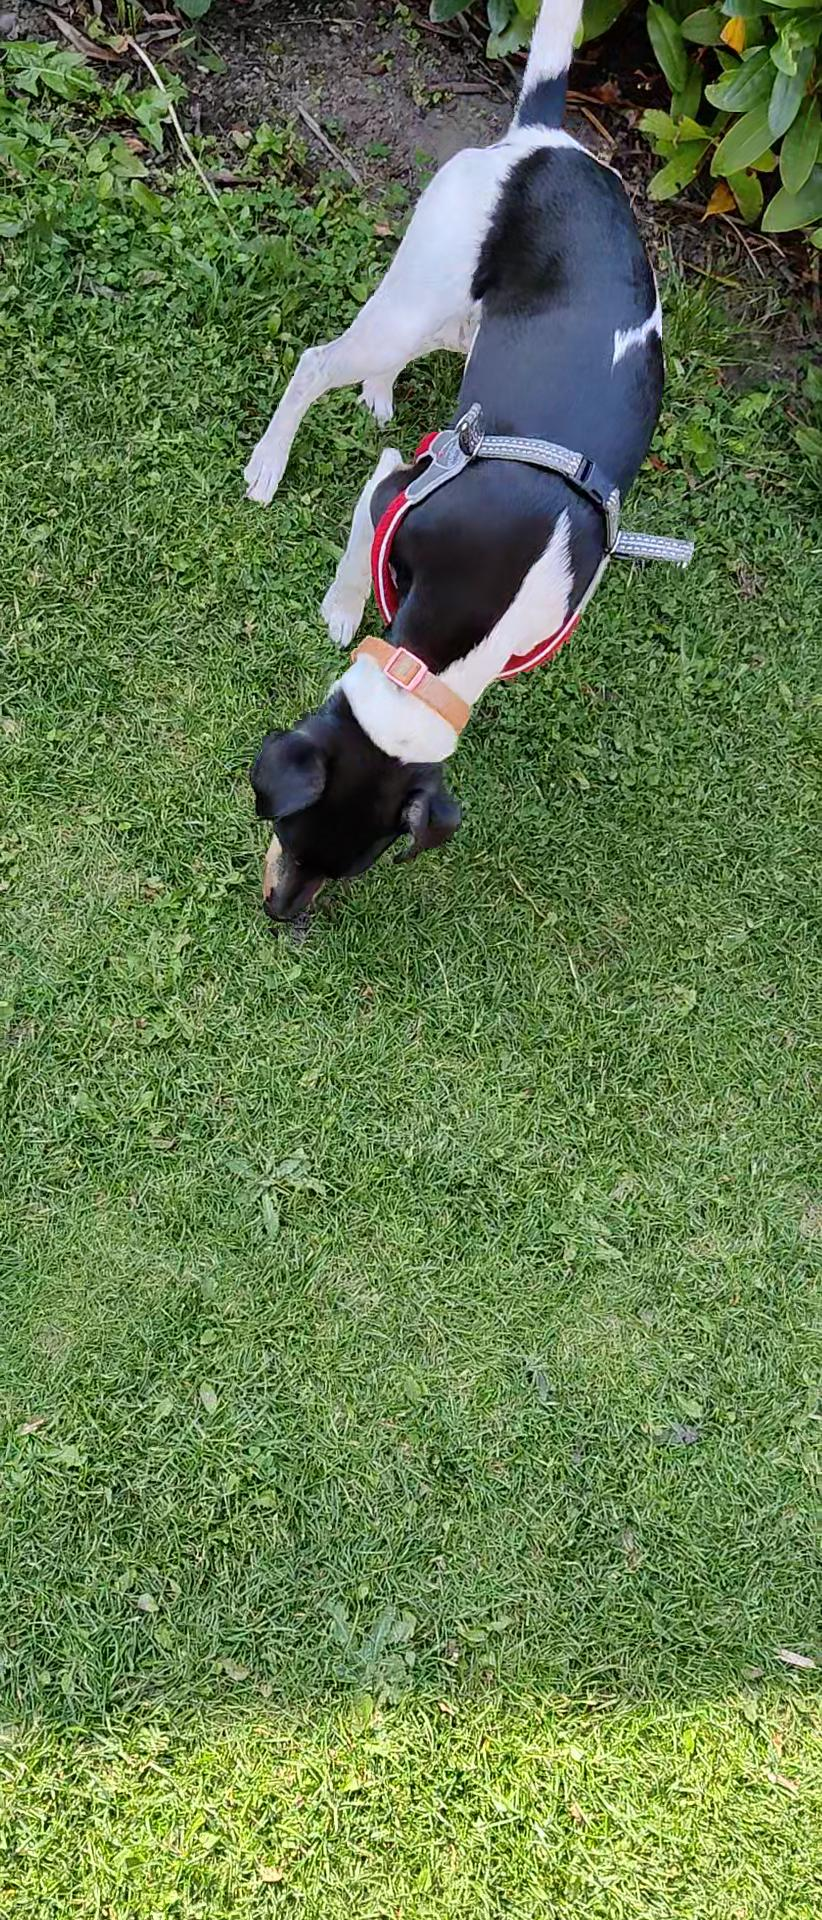Dog: (183, 0, 709, 966)
